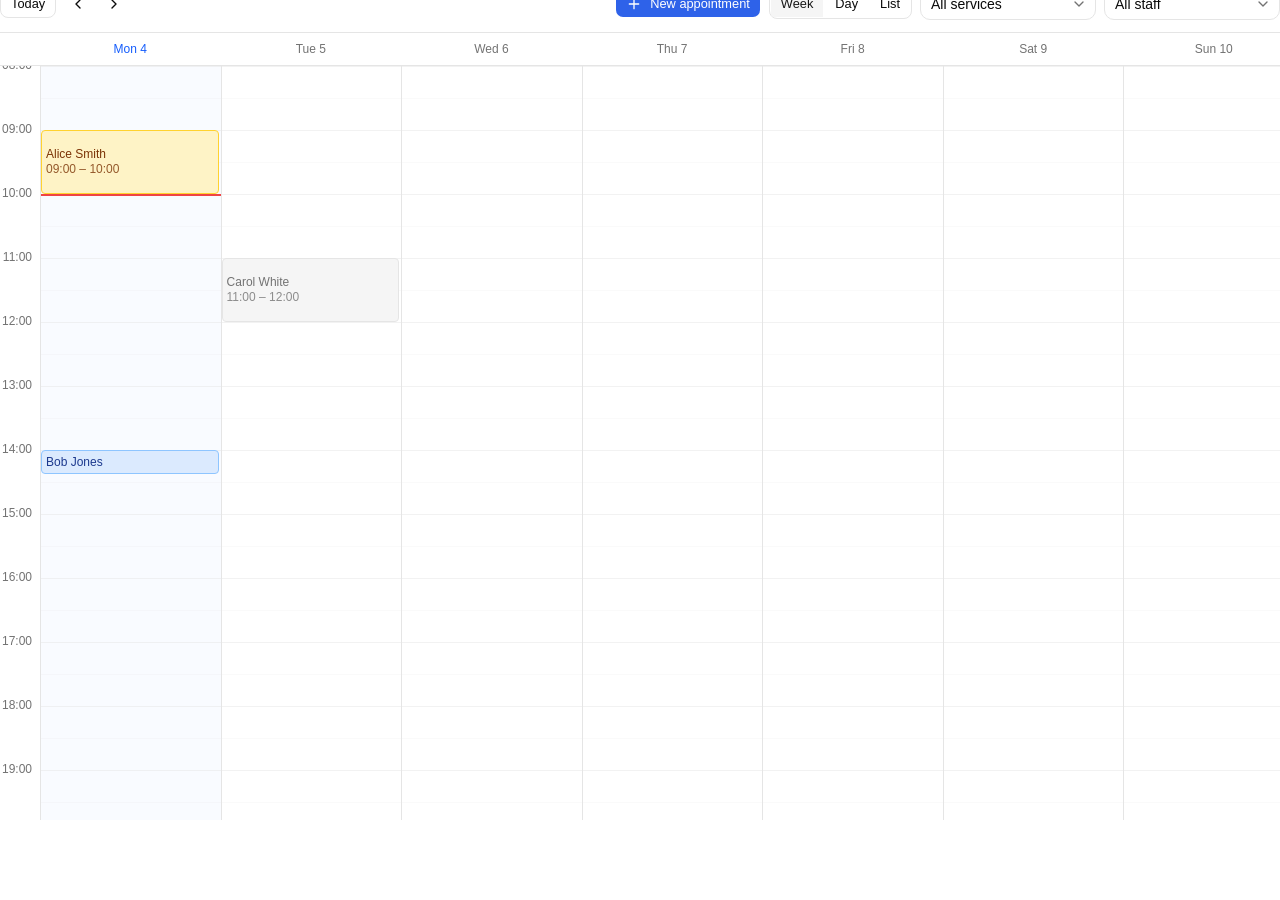
Calendar appointment improvements › Appointment approval › shows Confirm button for a pending appointment
The width and height of the screenshot is (1280, 900).
(page scrolled)
Click the button with test id "booking-block-bk-1": (130, 162) [41, 130, 219, 194]
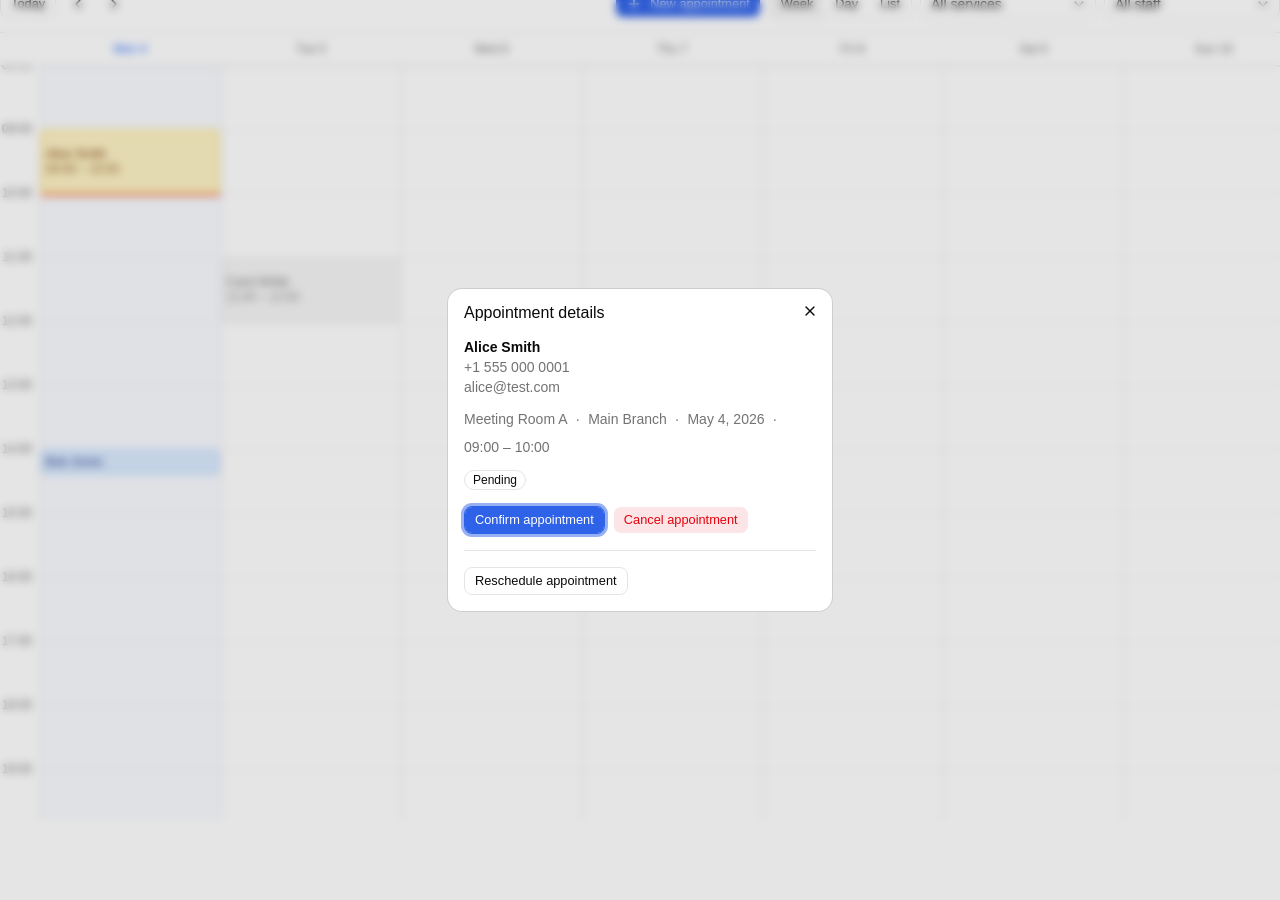
Check: the button "Confirm appointment" is shown, box [464, 506, 605, 534]
